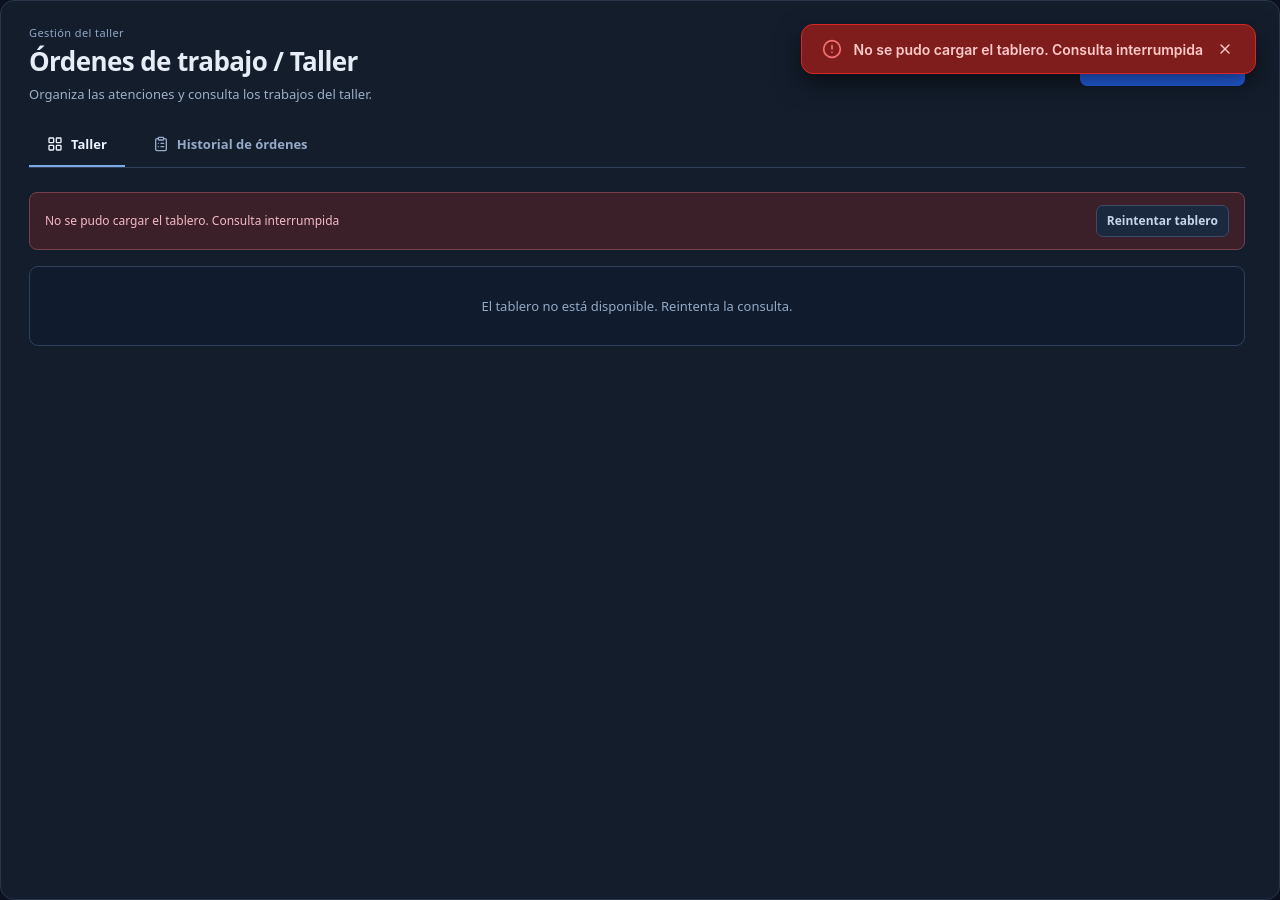
Avisos de recepción, inicio directo y consultas › una consulta fallida ofrece reintento y no queda en carga indefinida
Click the button "Reintentar tablero" at (1162, 221), box [1096,205,1229,237]
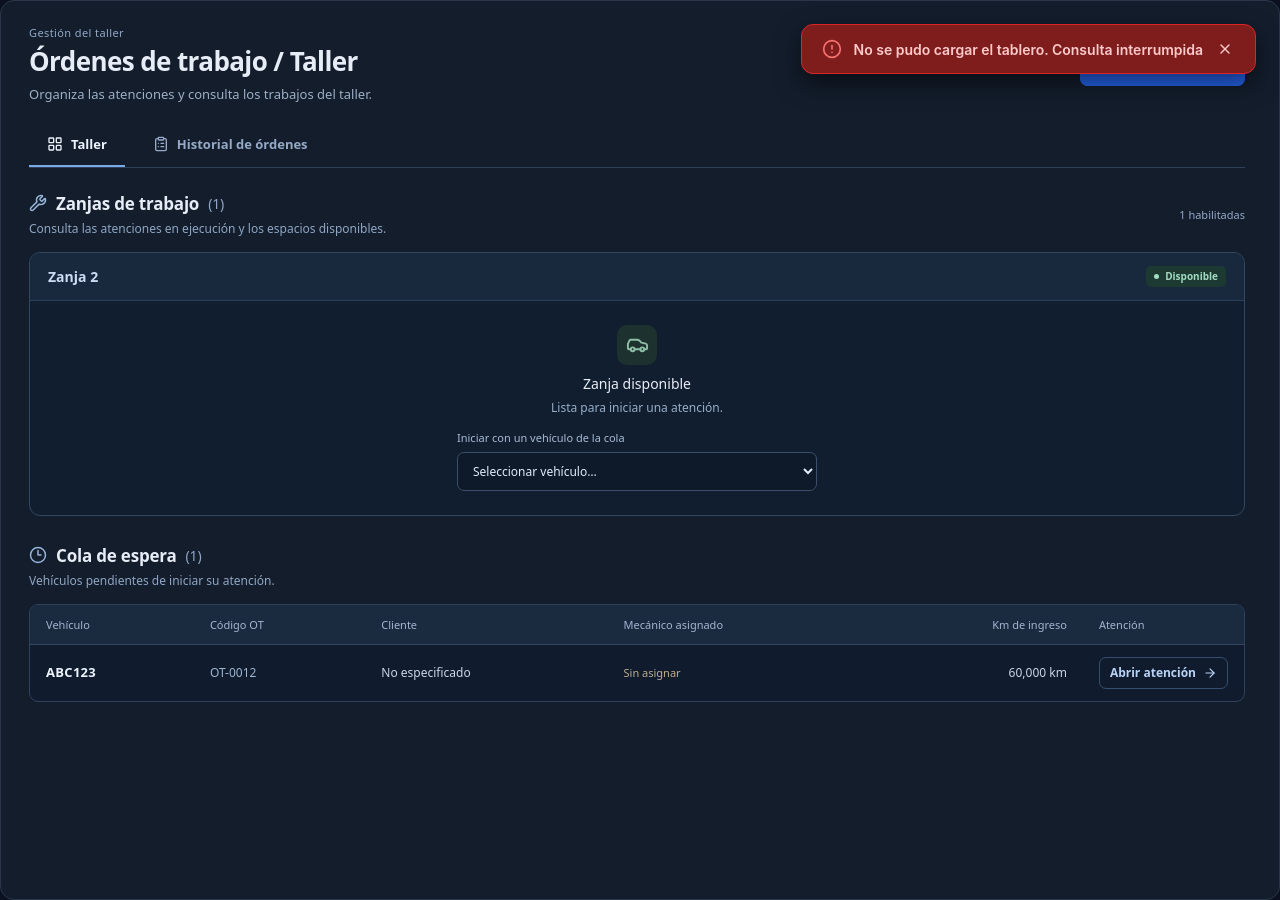
Check: the text "ABC123" is shown, box [46,663,96,681]
Check: the button "Reintentar tablero" is gone
